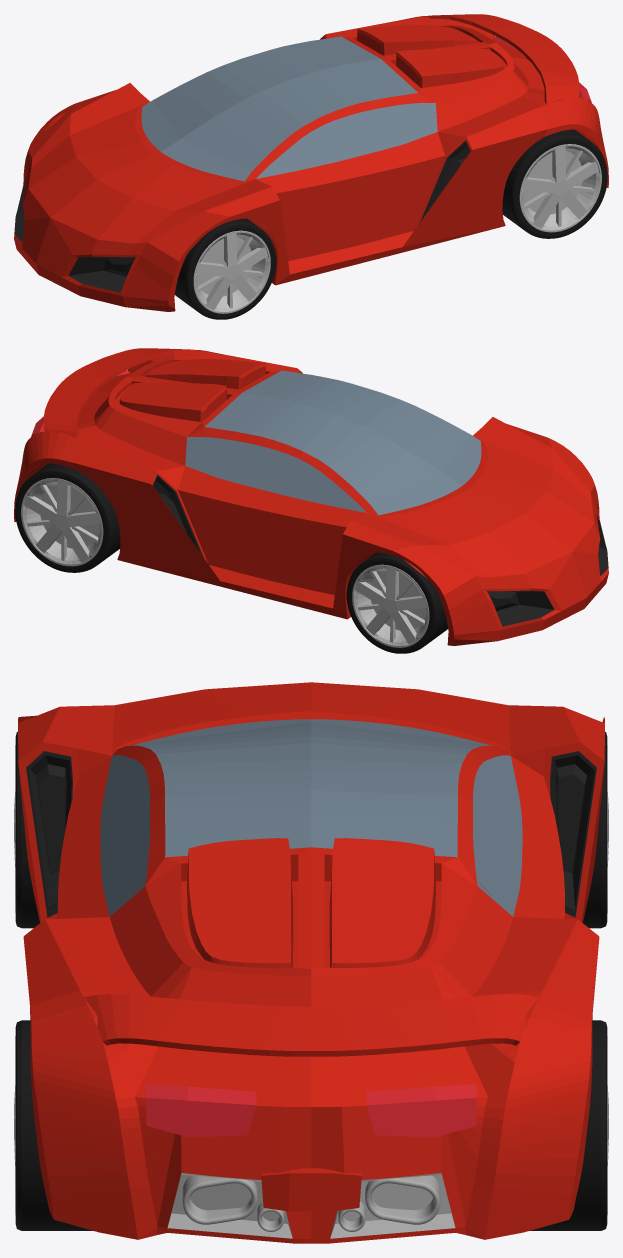
Rendered from CarTingRed.fbx.
3 renders of one model, top to bottom at view 1: azimuth 30°, elevation 25°; view 2: azimuth 150°, elevation 25°; view 3: azimuth 270°, elevation 25°, orthographic. The views are drawn at different scales.
Parts seen in each view (by area): view 1: Body, Circle.002, Circle.003; view 2: Body, Circle.001, Circle.000; view 3: Body, Brake, Circle.001, Circle.002, Circle.000, Circle.003.
Part boxes in pixels (x1,y1,x2,y2): Body: (14,14,608,311); Circle.002: (502,129,607,238); Circle.003: (174,218,276,319); Body: (14,348,608,645); Circle.001: (15,463,120,572); Circle.000: (346,552,448,653); Body: (18,682,604,1243); Brake: (146,1084,476,1137); Circle.001: (530,1020,608,1230); Circle.002: (14,1020,92,1230); Circle.000: (583,732,608,928); Circle.003: (14,732,39,928).
Size of the model in its own units: 545 by 154 by 278.
